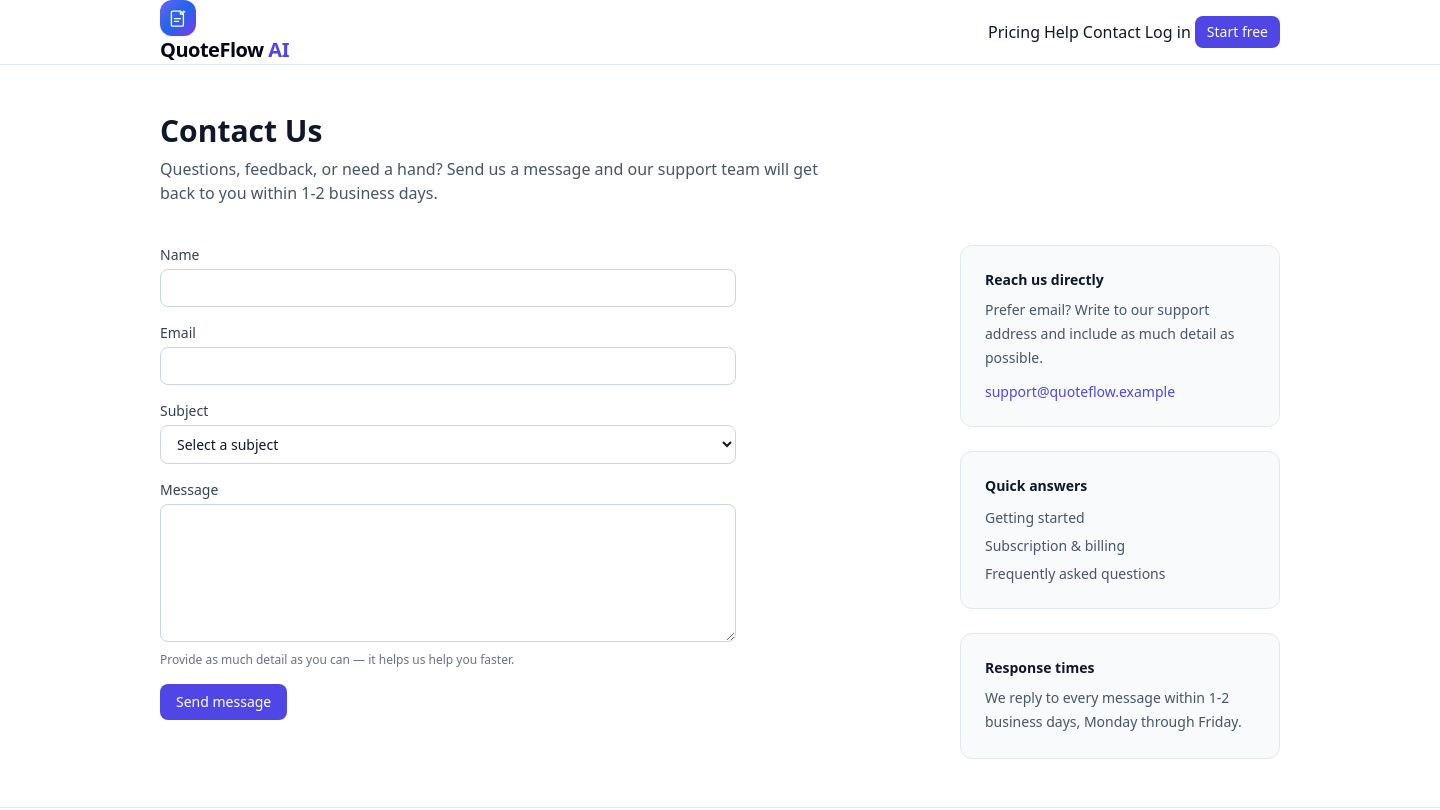
Test: contact page › requires all fields before submitting
Click the button "Send message" at (224, 702), box [160,684,287,720]
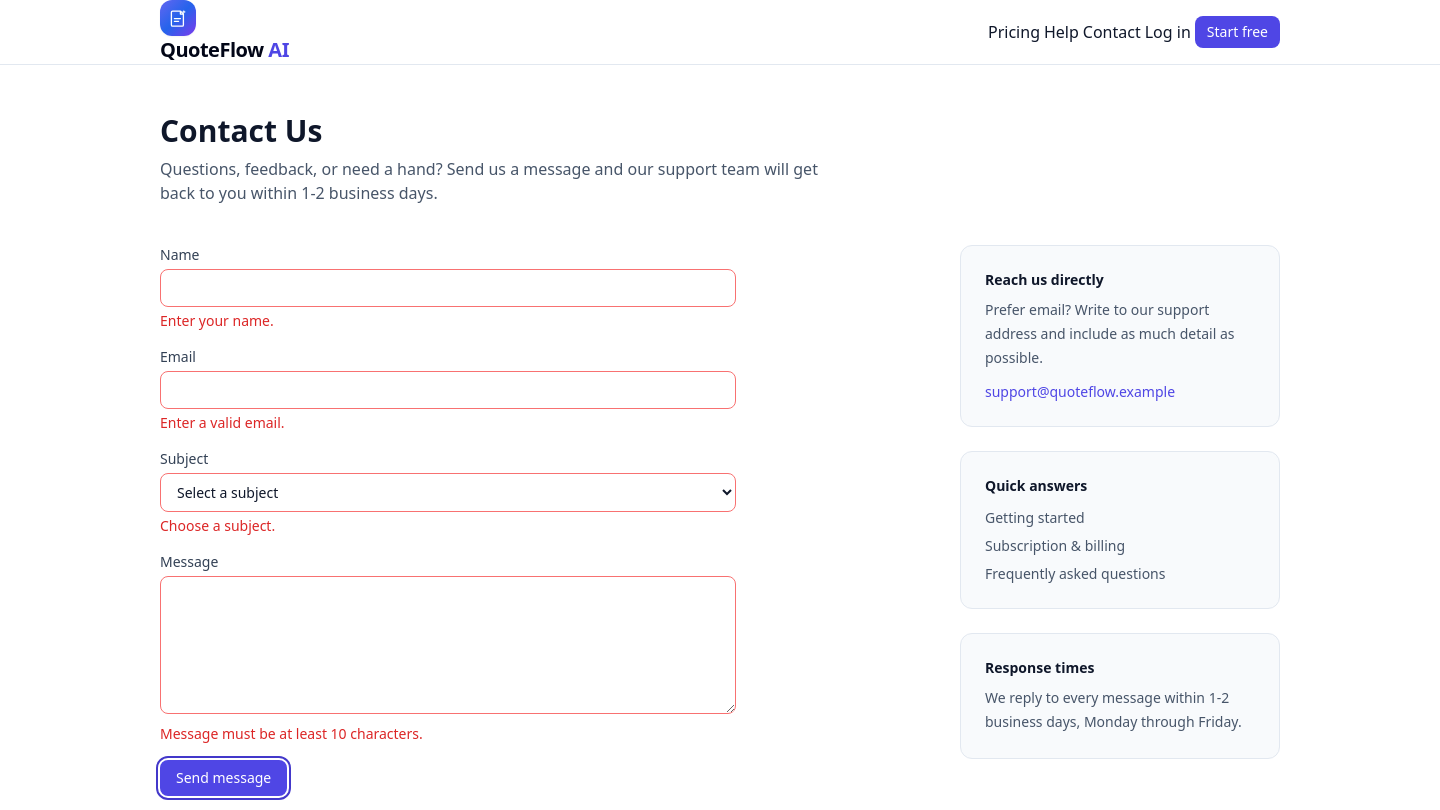
Expected: the text "Enter your name." is shown, [160,311,274,330]
Expected: the text "Enter a valid email." is shown, [160,413,285,432]
Expected: the text "Choose a subject." is shown, [160,516,275,535]
